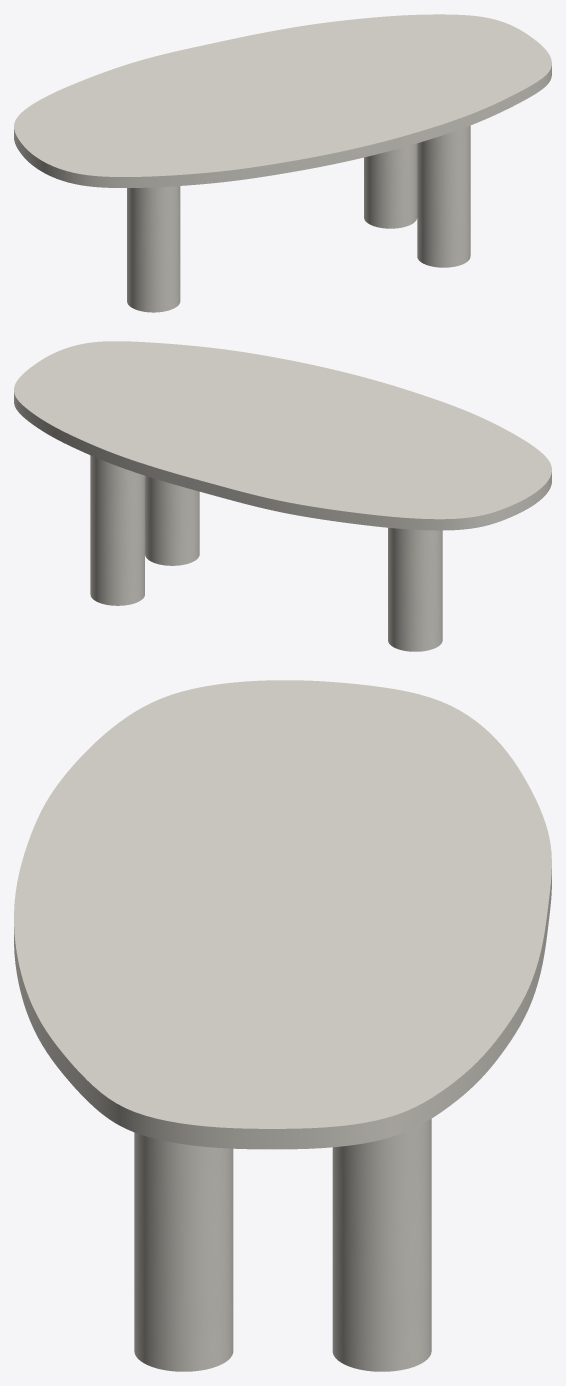
Rendered from pale_danish_standard_cylinder.glb.
3 views of the same model, one above another, from view 1: azimuth 30°, elevation 25°; view 2: azimuth 150°, elevation 25°; view 3: azimuth 270°, elevation 25° (orthographic). The views are drawn at different scales.
Visible parts, largest first — view 1: standard_danish, cylinder; view 2: standard_danish, cylinder; view 3: standard_danish, cylinder.
Boxes of the visible parts, x1=… form: standard_danish: x1=14, y1=14, x2=551, y2=187; cylinder: x1=127, y1=125, x2=470, y2=312; standard_danish: x1=14, y1=341, x2=551, y2=530; cylinder: x1=90, y1=455, x2=442, y2=651; standard_danish: x1=14, y1=680, x2=551, y2=1149; cylinder: x1=134, y1=1119, x2=431, y2=1371.
Size of the model in its own units: 7.5 by 2.52 by 3.8.
Materials: 1 (1 with a texture image).
